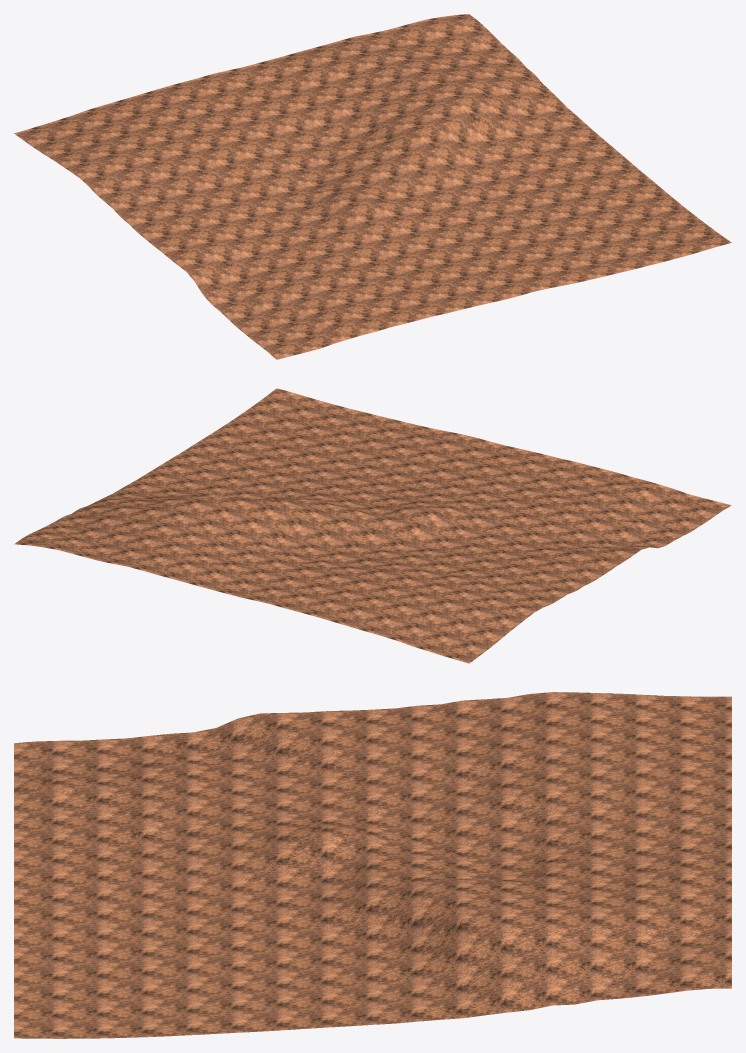
File: terrain_02_20.dae
The picture shows the model from 3 angles, top to bottom: view 1: azimuth 30°, elevation 25°; view 2: azimuth 150°, elevation 25°; view 3: azimuth 270°, elevation 25°; orthographic projection. The views are drawn at different scales.
Parts seen in each view (by area): view 1: terrain_02_20-node; view 2: terrain_02_20-node; view 3: terrain_02_20-node.
Part boxes in pixels (box(x1,y1,x2,y2)): terrain_02_20-node: box(14, 14, 731, 359); terrain_02_20-node: box(14, 388, 731, 663); terrain_02_20-node: box(14, 692, 731, 1038).
Size of the model in its own units: 128 by 128 by 12.84.
1 material, 1 textured.
